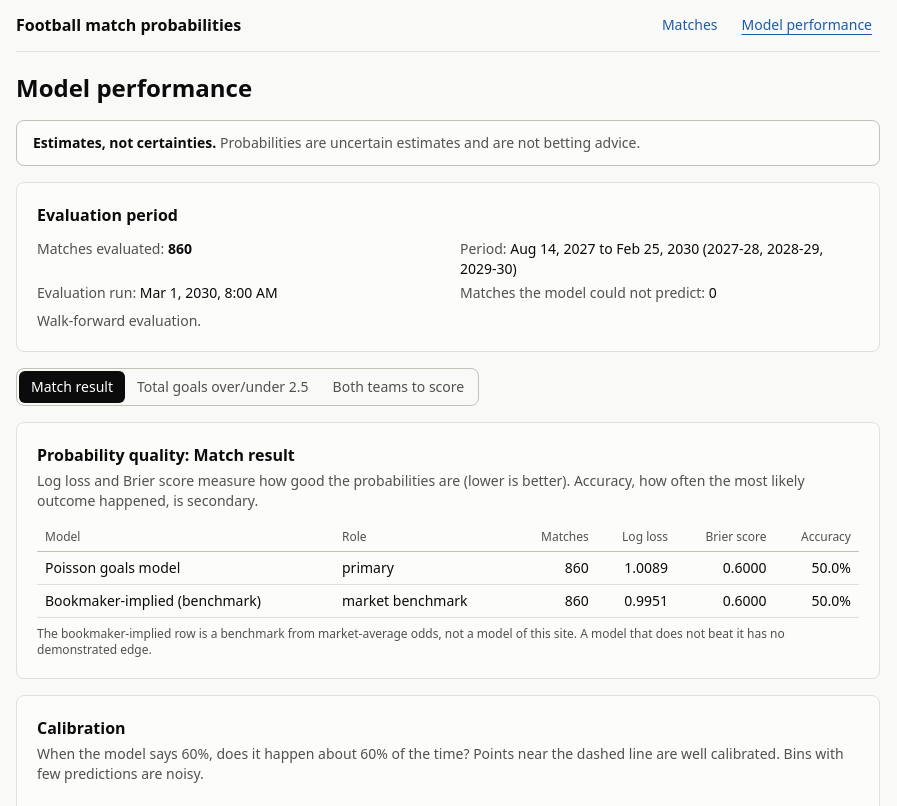
Model performance › shows period, sample size, metrics, calibration table and a separate betting section
Expected: the heading "Model performance" is shown, [16,71,252,104]
Expected: the text "860" is shown, [168,239,192,258]
Click the button "Both teams to score" at (398, 387), box [321,371,476,403]
(page scrolled)
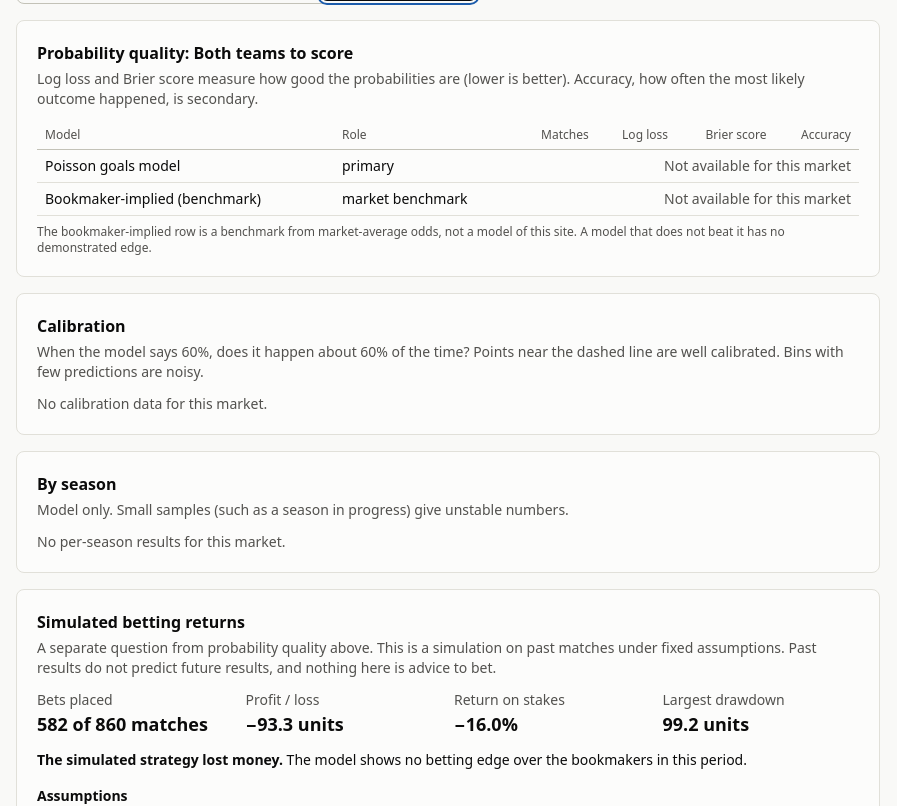
Now the text "Not available for this market" is shown 2 times, box [515,150,859,182]; [515,182,859,216]
Now the text "No calibration data for this market." is shown, box [37,394,267,413]
